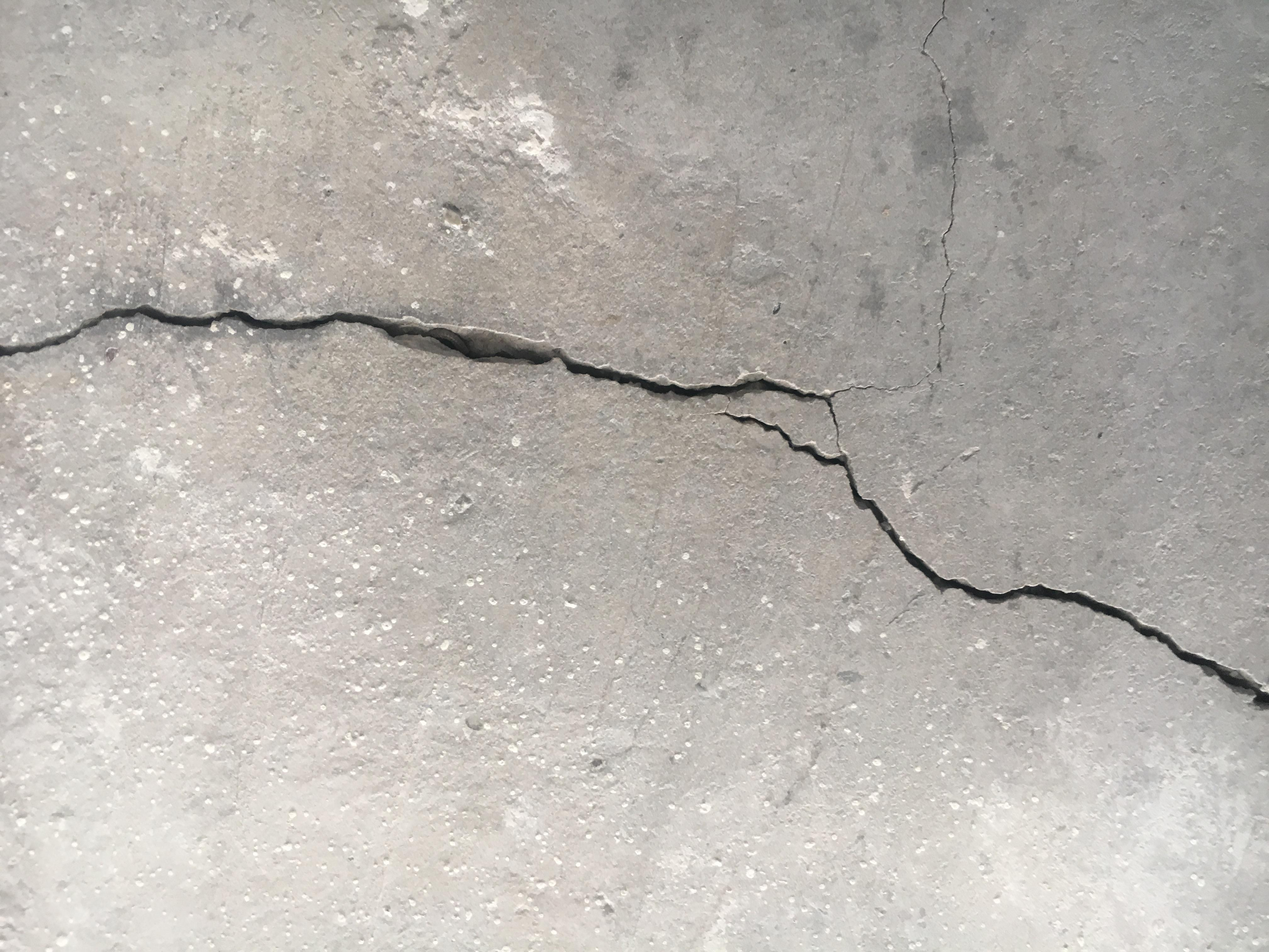Horizontal Settlement Crack: (3, 298, 1266, 711)
